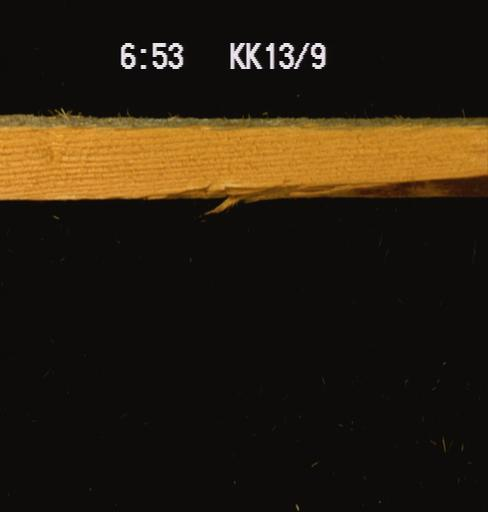wave: (126, 162, 487, 215)
